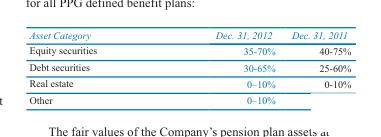table: (28, 28, 350, 105)
table column: (28, 28, 155, 105), (155, 28, 282, 105), (282, 28, 350, 105)
table column header: (28, 28, 350, 42)
table row: (28, 74, 350, 91), (28, 42, 350, 58), (28, 58, 350, 74), (28, 28, 350, 42), (28, 91, 350, 105)
